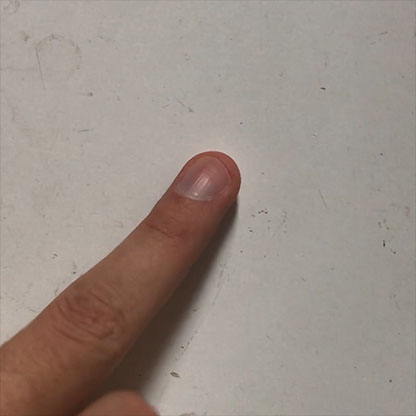fingertip: (174, 136, 249, 228)
